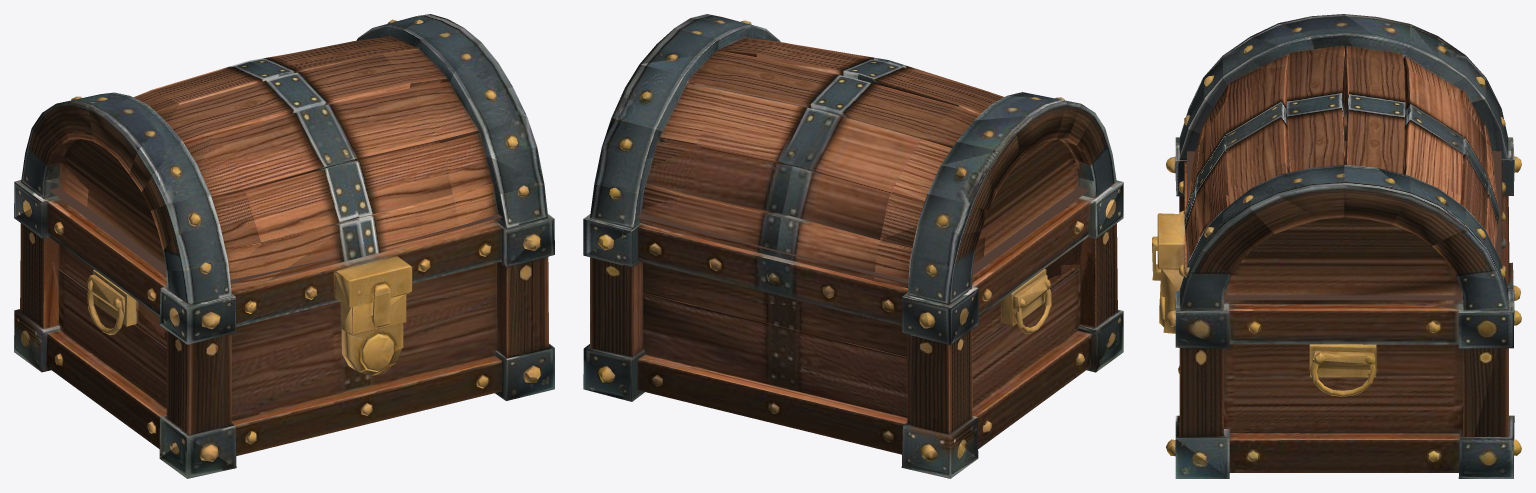
File: chest.glb
3 renders of one model, left to right at view 1: azimuth 30°, elevation 25°; view 2: azimuth 150°, elevation 25°; view 3: azimuth 270°, elevation 25°, orthographic. The views are drawn at different scales.
Visible parts, largest first — view 1: Frame, Lid; view 2: Frame, Lid; view 3: Lid, Frame.
Part boxes in pixels (x1,y1,x2,y2): Frame: (14, 175, 554, 478); Lid: (22, 14, 547, 296); Frame: (583, 175, 1123, 478); Lid: (591, 14, 1115, 296); Lid: (1181, 14, 1506, 302); Frame: (1152, 132, 1521, 478).
Bounding box in the file's own units: 0.768 × 0.6 × 0.6855.
Materials: 1 (1 with a texture image).
